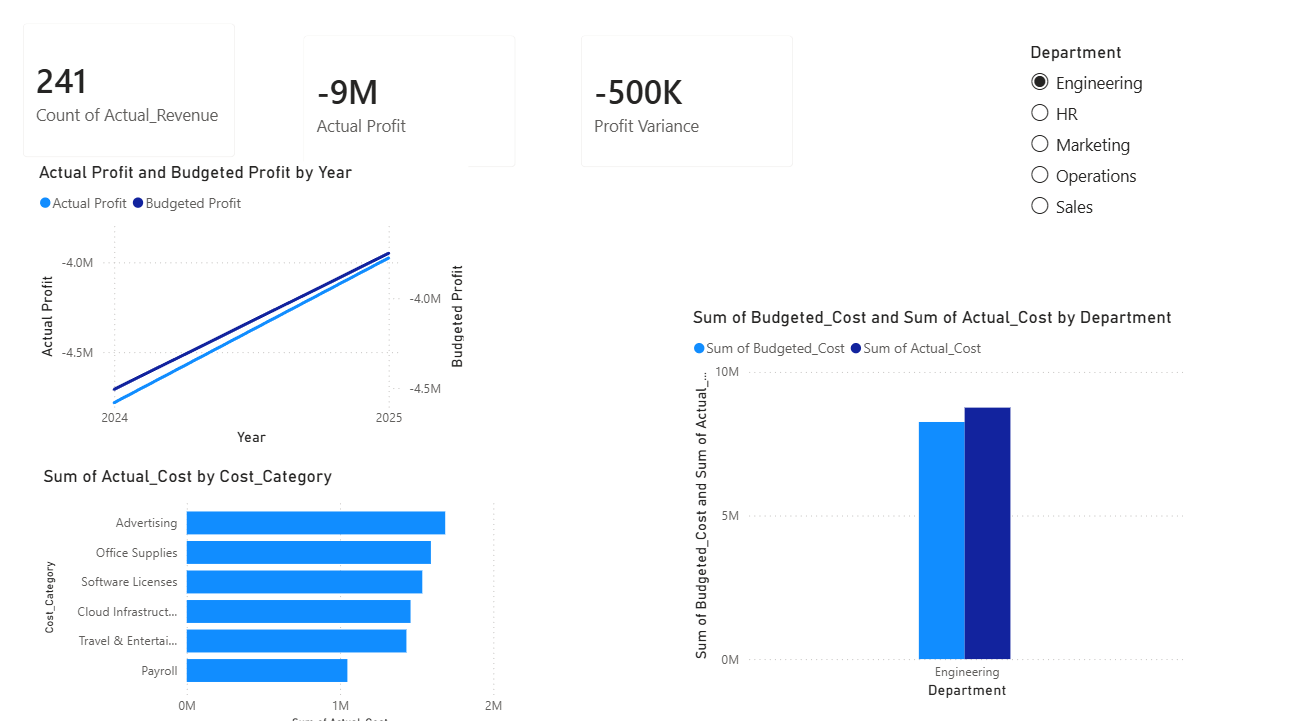

The dashboard page shown, as its layout file describes it:
{"tool":"powerbi","page":{"name":"Page 1","canvas":[1280,720],"ordinal":0},"visuals":[{"type":"cardVisual","fields":{"Data":["CountNonNull(financial_performance_data.Actual_Revenue)"]},"box":[14.2,12.7,240.4,164.5],"z":0},{"type":"cardVisual","fields":{"Data":["financial_performance_data.Actual Profit"]},"box":[286.3,25.3,240.4,162.9],"z":1000},{"type":"cardVisual","fields":{"Data":["financial_performance_data.Profit Variance"]},"box":[556.7,25.3,240.4,162.9],"z":2000},{"type":"lineChart","fields":{"Category":["financial_performance_data.Date.Variation.Date Hierarchy.Year","financial_performance_data.Date.Variation.Date Hierarchy.Month"],"Y":["financial_performance_data.Actual Profit"],"Y2":["financial_performance_data.Budgeted Profit"]},"box":[42.7,164.5,422.3,279.9],"z":3000},{"type":"clusteredBarChart","fields":{"Category":["financial_performance_data.Cost_Category"],"Y":["Sum(financial_performance_data.Actual_Cost)"]},"box":[45.9,460.2,455.5,259.4],"z":3001},{"type":"clusteredColumnChart","fields":{"Category":["financial_performance_data.Department"],"Y":["Sum(financial_performance_data.Budgeted_Cost)","Sum(financial_performance_data.Actual_Cost)"]},"box":[676.9,305.2,487.1,384.3],"z":3002},{"type":"listSlicer","fields":{"Values":["financial_performance_data.Department"]},"box":[1004.3,47.4,275.2,234.1],"z":3003}]}

Visuals, with their boxes in screenshot pixels (x1, y1, x2, y2), scaled from the page's 1280x720 canvas onto the 1294x721 screenshot:
cardVisual - CountNonNull(financial_performance_data.Actual_Revenue): {"x1": 14, "y1": 13, "x2": 257, "y2": 177}
cardVisual - financial_performance_data.Actual Profit: {"x1": 289, "y1": 25, "x2": 532, "y2": 188}
cardVisual - financial_performance_data.Profit Variance: {"x1": 563, "y1": 25, "x2": 806, "y2": 188}
lineChart - financial_performance_data.Date.Variation.Date Hierarchy.Year x financial_performance_data.Date.Variation.Date Hierarchy.Month: {"x1": 43, "y1": 165, "x2": 470, "y2": 445}
clusteredBarChart - financial_performance_data.Cost_Category x Sum(financial_performance_data.Actual_Cost): {"x1": 46, "y1": 461, "x2": 507, "y2": 720}
clusteredColumnChart - financial_performance_data.Department x Sum(financial_performance_data.Budgeted_Cost): {"x1": 684, "y1": 306, "x2": 1177, "y2": 690}
listSlicer - financial_performance_data.Department: {"x1": 1015, "y1": 47, "x2": 1293, "y2": 282}
